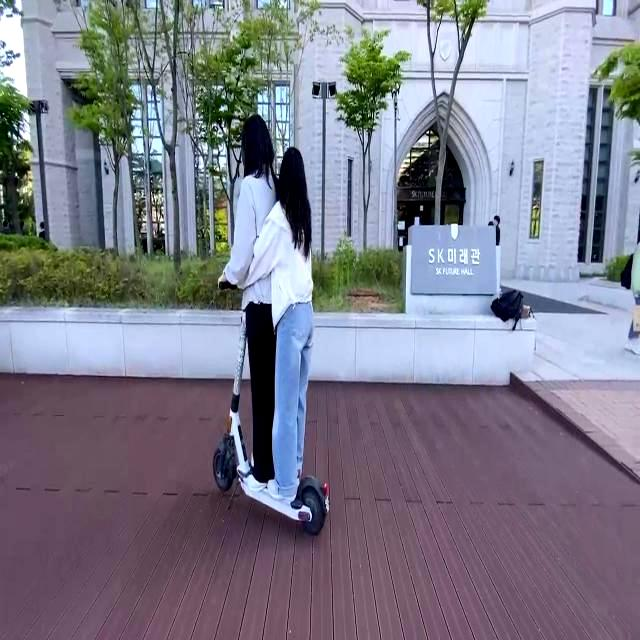bare_head: (267, 146, 319, 204), (235, 113, 278, 175)
human: (263, 141, 328, 506), (226, 115, 286, 484)
kickboard: (214, 421, 343, 539)
